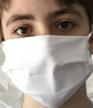with_mask: (1, 2, 93, 108)
